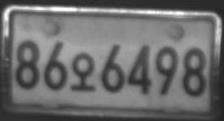4: (127, 45, 151, 94)
6: (43, 41, 67, 90), (101, 43, 125, 92)
8: (182, 46, 207, 96), (15, 40, 39, 89)
9: (155, 45, 178, 94)
오: (71, 51, 95, 92)
